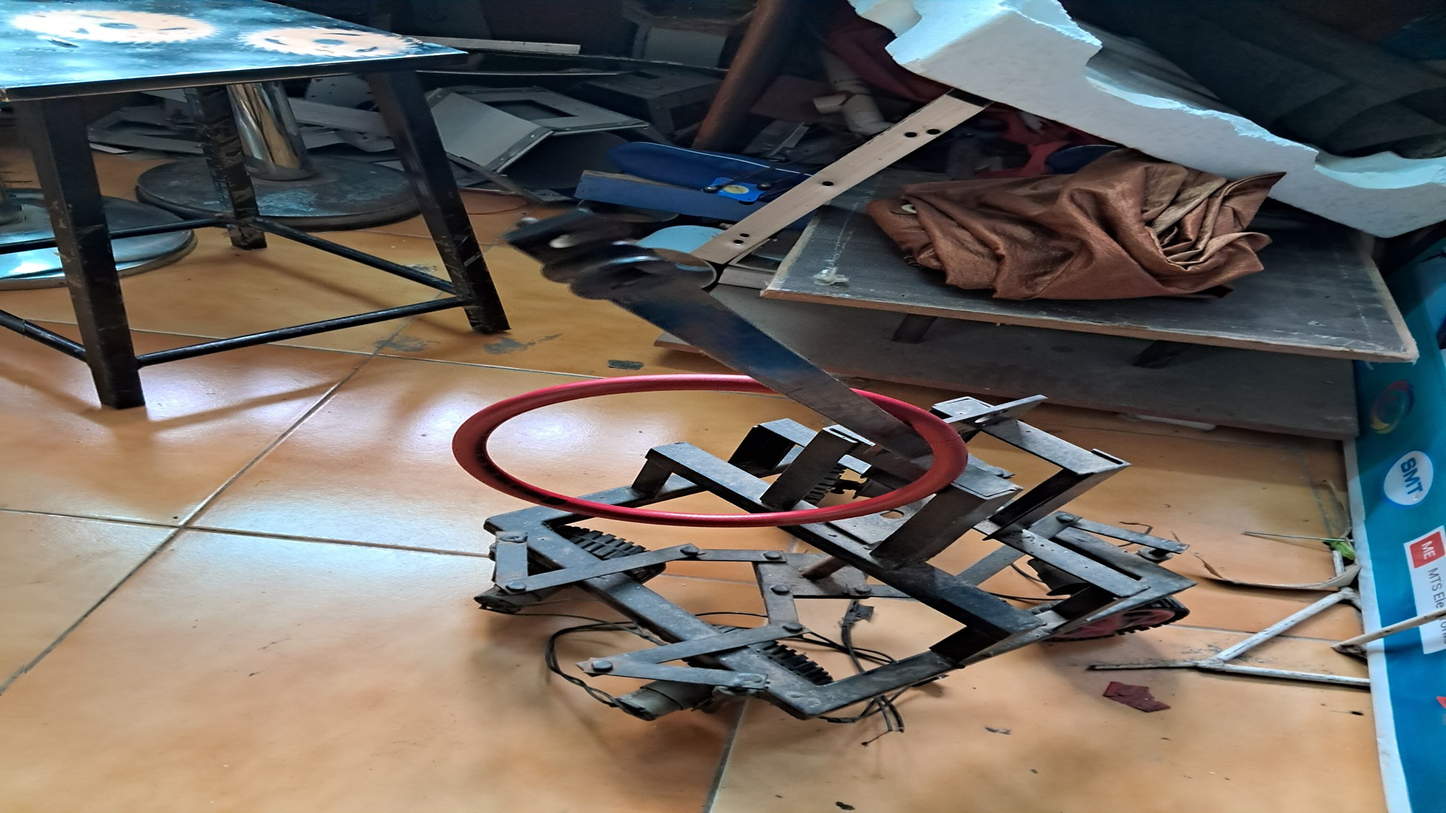Red ring: (453, 372, 966, 522)
